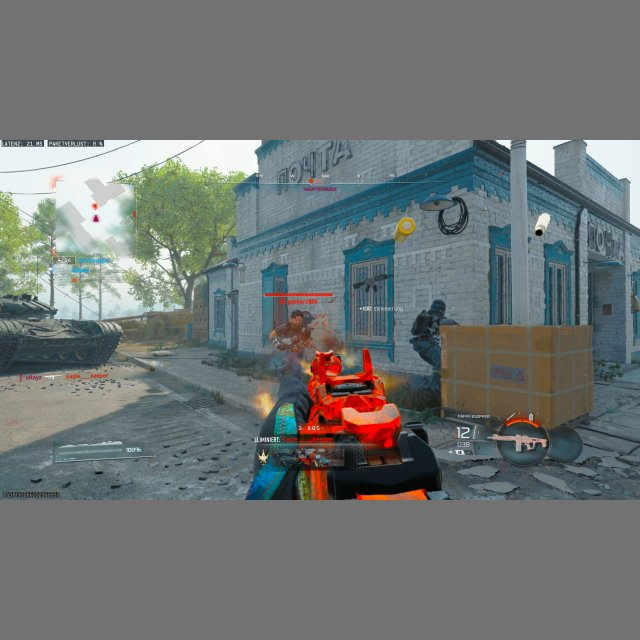head: (290, 309, 304, 328), (431, 299, 446, 316)
player: (409, 299, 456, 389), (271, 309, 317, 379)
